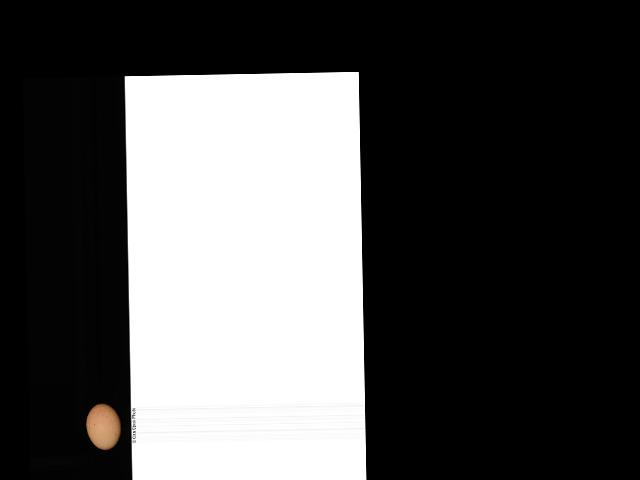egg: (86, 403, 122, 450)
